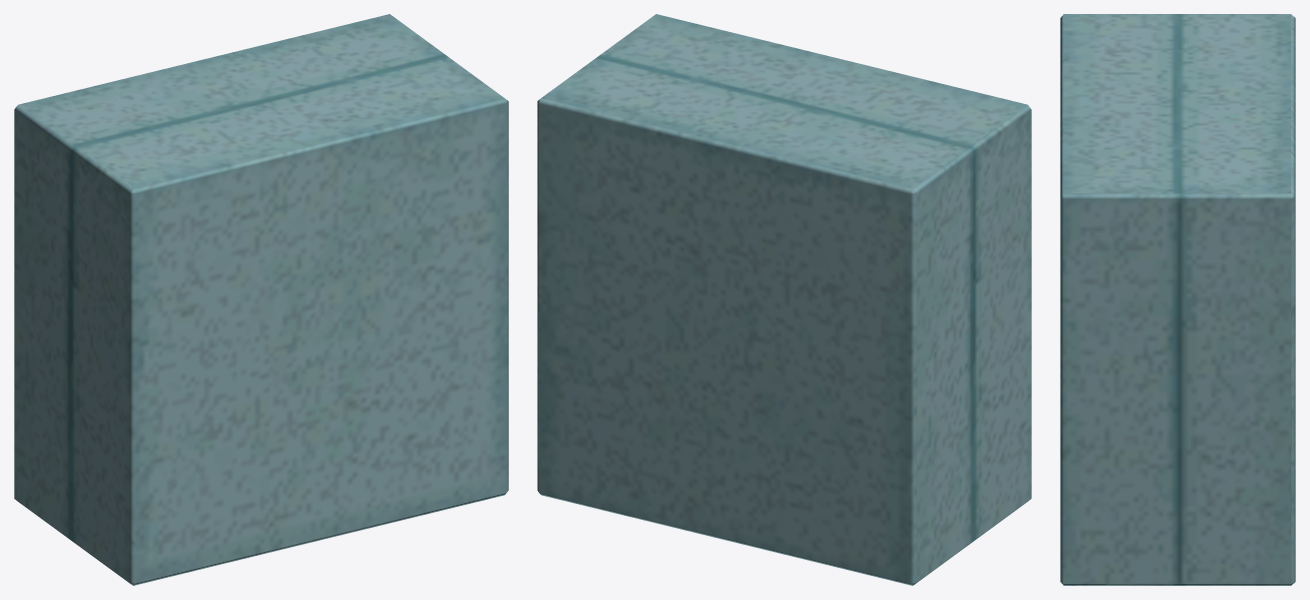
The model's file is bass_glassflower.dae.
The picture shows the model from 3 angles, left to right: view 1: azimuth 30°, elevation 25°; view 2: azimuth 150°, elevation 25°; view 3: azimuth 270°, elevation 25°; orthographic projection.
Visible parts, largest first — view 1: polySurface1; view 2: polySurface1; view 3: polySurface1.
Boxes of the visible parts, x1,y1,x2,y2 form: polySurface1: [14, 14, 508, 585]; polySurface1: [537, 14, 1031, 585]; polySurface1: [1060, 14, 1295, 585].
Bounding box in the file's own units: 0.349 × 0.349 × 0.1894.
